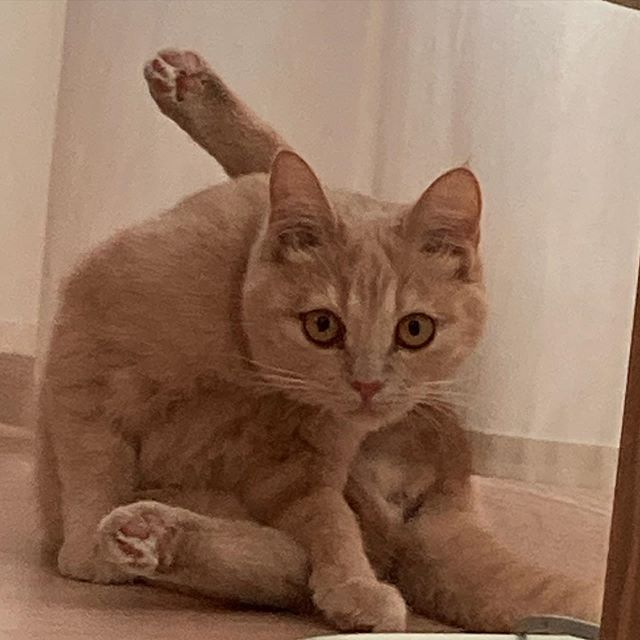cat: (239, 143, 495, 431)
